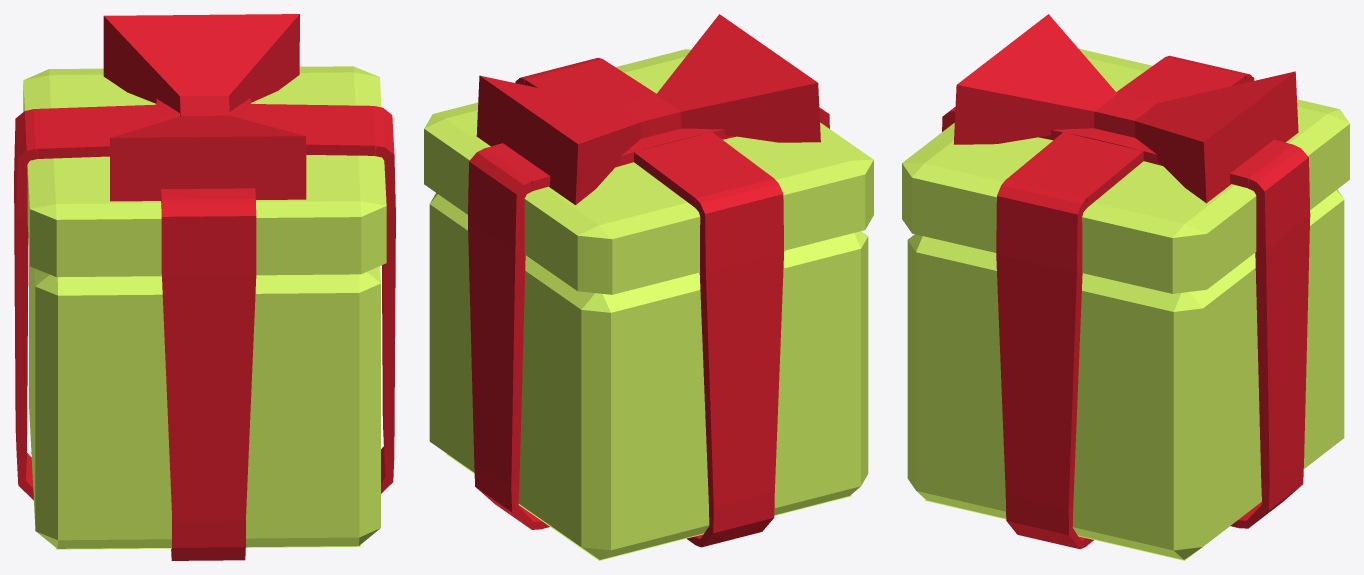
The model's file is gift.fbx.
3 renders of one model, left to right at view 1: azimuth 30°, elevation 25°; view 2: azimuth 150°, elevation 25°; view 3: azimuth 270°, elevation 25°, orthographic. The views are drawn at different scales.
Visible parts, largest first — view 1: 立方體.077; view 2: 立方體.077; view 3: 立方體.077.
Part boxes in pixels (left/top/right/bottom): 立方體.077: left=14, top=14, right=395, bottom=560; 立方體.077: left=424, top=14, right=873, bottom=560; 立方體.077: left=902, top=14, right=1349, bottom=560.
Size of the model in its own units: 1362 by 1365 by 1362.
